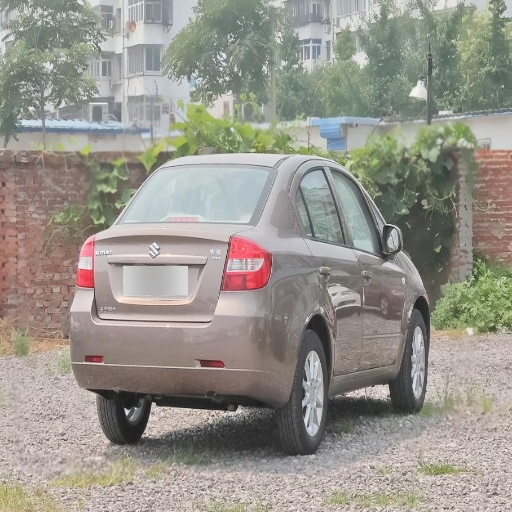back_bumper: (69, 287, 301, 402)
back_right_door: (293, 162, 363, 377)
